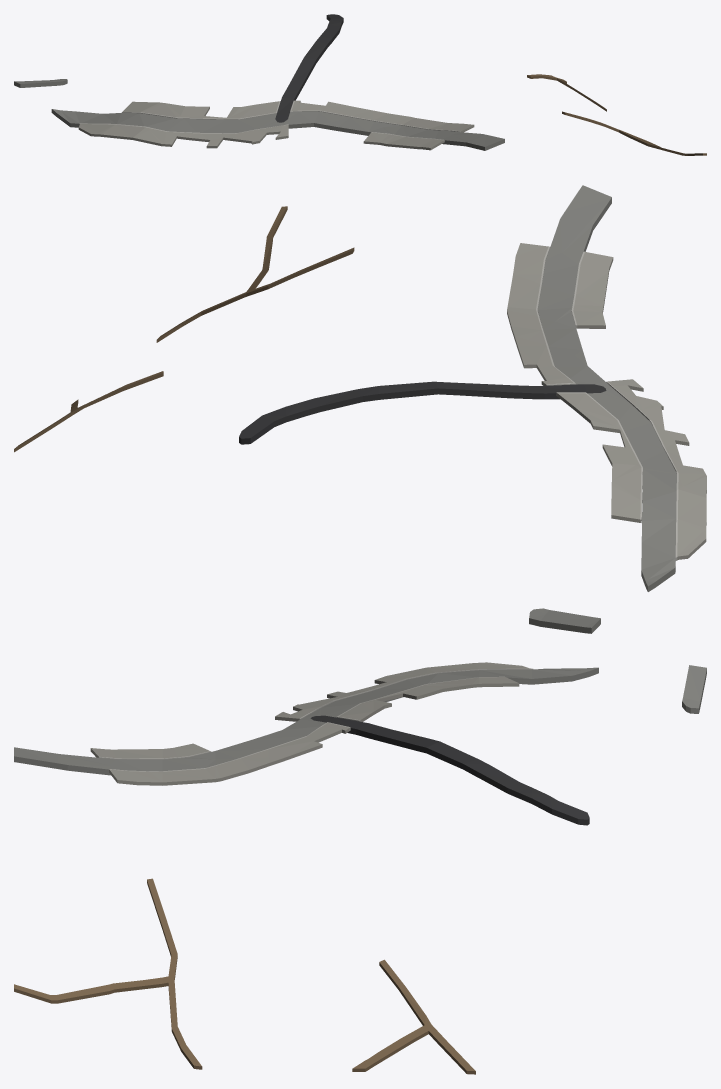
3 renders of one model, top to bottom at view 1: azimuth 30°, elevation 25°; view 2: azimuth 150°, elevation 25°; view 3: azimuth 270°, elevation 25°, orthographic. The views are drawn at different scales.
Bounding box in the file's own units: 147 × 34.42 × 131.
